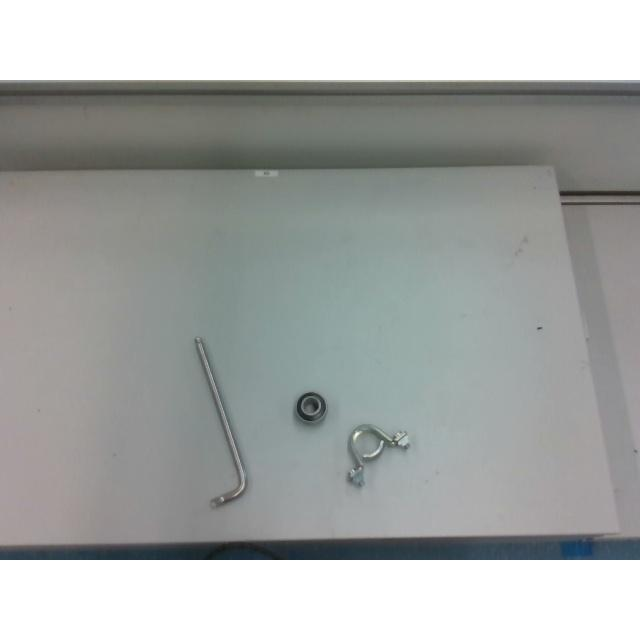AllenKey: (194, 336, 248, 508)
Bearing2: (294, 392, 326, 422)
Housing: (348, 424, 408, 484)
